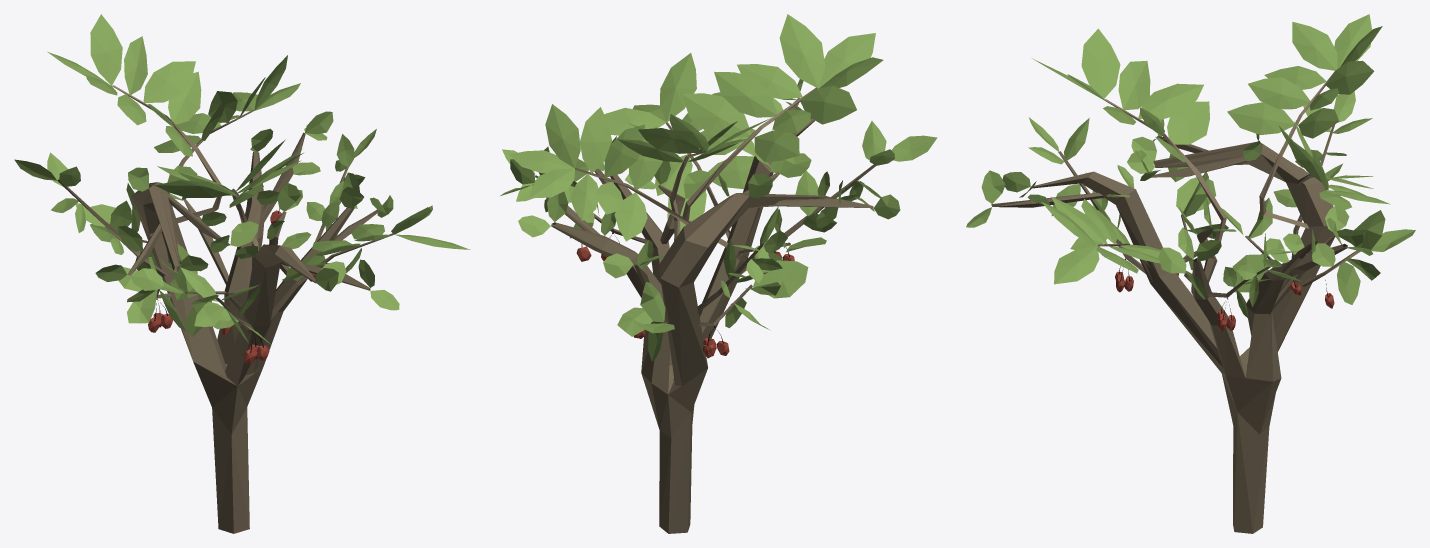
File: Cherry_4_1.fbx
The picture shows the model from 3 angles, left to right: view 1: azimuth 30°, elevation 25°; view 2: azimuth 150°, elevation 25°; view 3: azimuth 270°, elevation 25°; orthographic projection.
Parts seen in each view (by area): view 1: Cherry_4_1; view 2: Cherry_4_1; view 3: Cherry_4_1.
Part boxes in pixels (x1=…): Cherry_4_1: x1=14, y1=14, x2=470, y2=533; Cherry_4_1: x1=500, y1=14, x2=937, y2=533; Cherry_4_1: x1=966, y1=14, x2=1415, y2=533.
Size of the model in its own units: 285 by 384 by 332.
